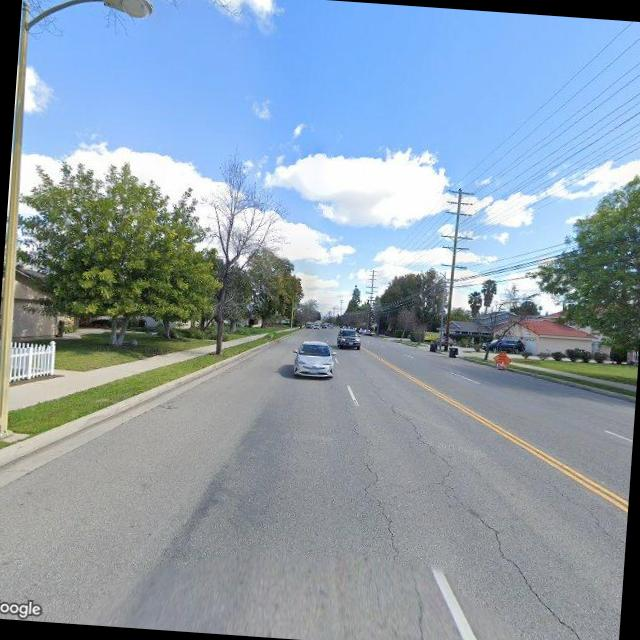pothole: (364, 405, 609, 640), (334, 413, 440, 640), (364, 382, 459, 472), (526, 470, 625, 544)
